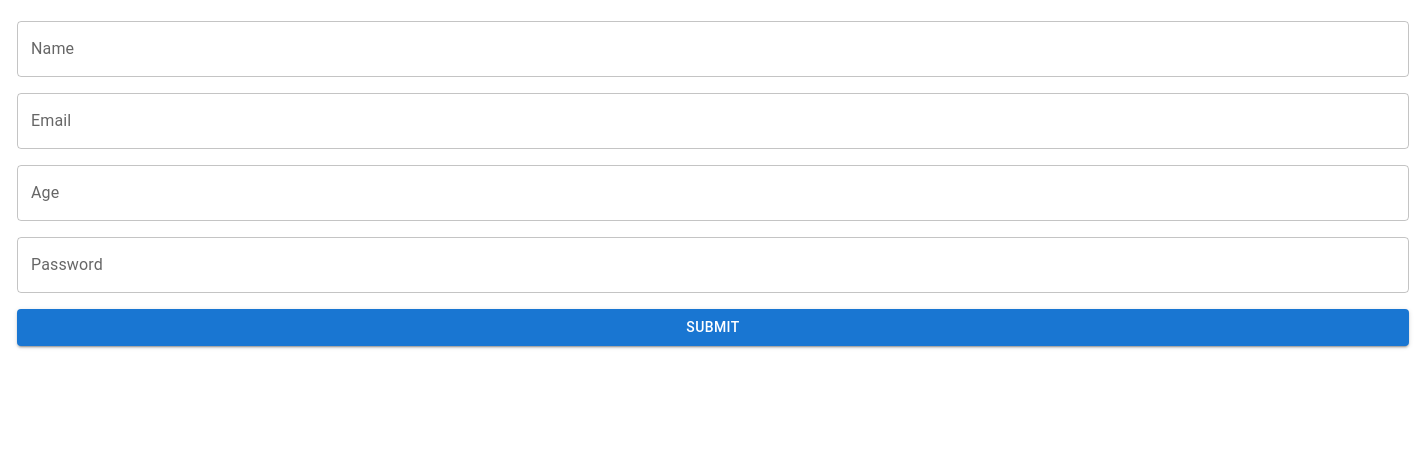
UserForm › shows validation errors when submitted empty
Step 1. Click the button "Submit" → x=713, y=327, box [17,309,1409,346]
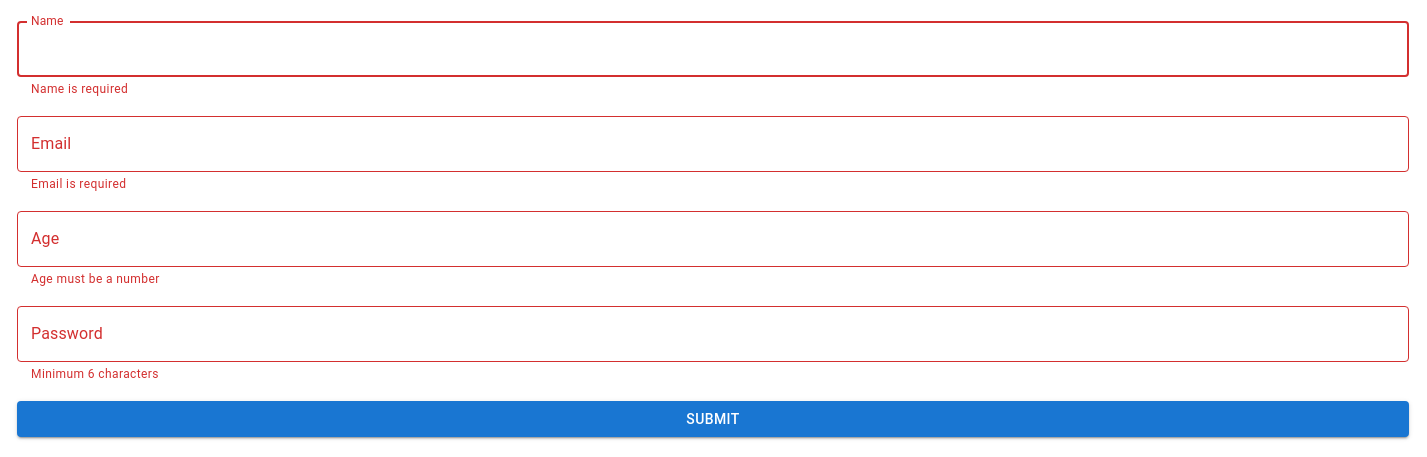
Expected: the text "Name is required" is shown, [31,82,128,96]
Expected: the text "Email is required" is shown, [31,177,126,191]
Expected: the text "Age must be a number" is shown, [31,272,160,286]
